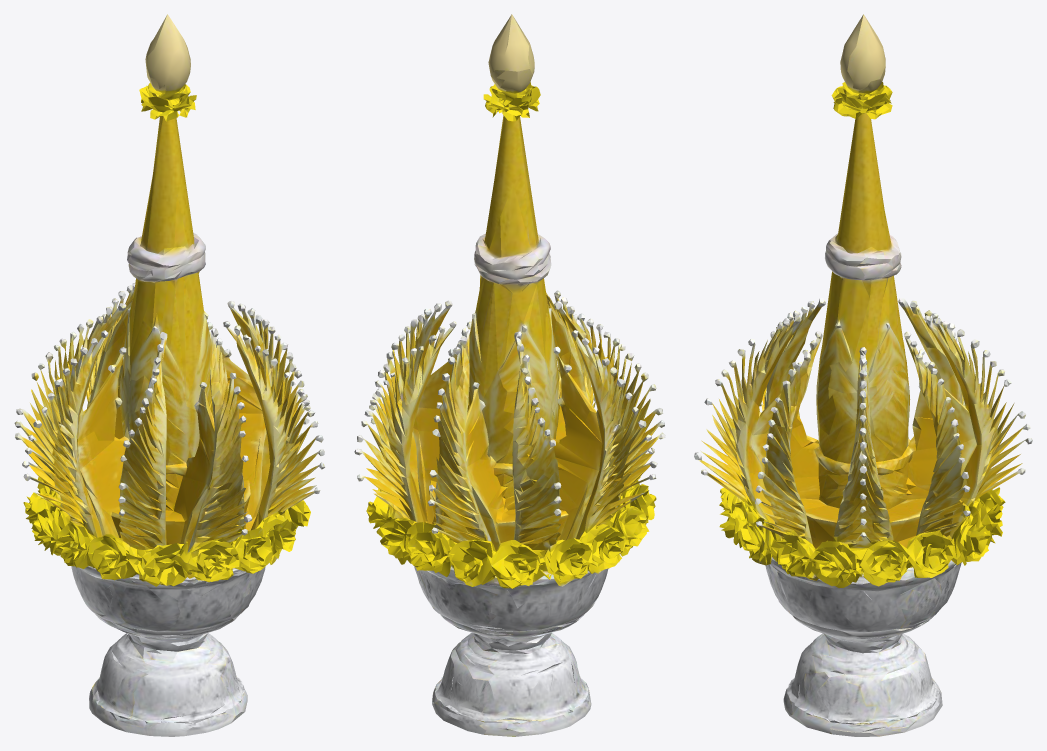
Rendered from w3hgoldbaisri.glb.
3 renders of one model, left to right at view 1: azimuth 30°, elevation 25°; view 2: azimuth 150°, elevation 25°; view 3: azimuth 270°, elevation 25°, orthographic.
Parts seen in each view (by area): view 1: output_unwrapped; view 2: output_unwrapped; view 3: output_unwrapped.
Part boxes in pixels (box(x1,y1,x2,y2)): output_unwrapped: box(14, 14, 325, 736); output_unwrapped: box(354, 14, 665, 736); output_unwrapped: box(694, 14, 1032, 736).
Size of the model in its own units: 0.384 by 0.88 by 0.3919.
Materials: 1 (1 with a texture image).
